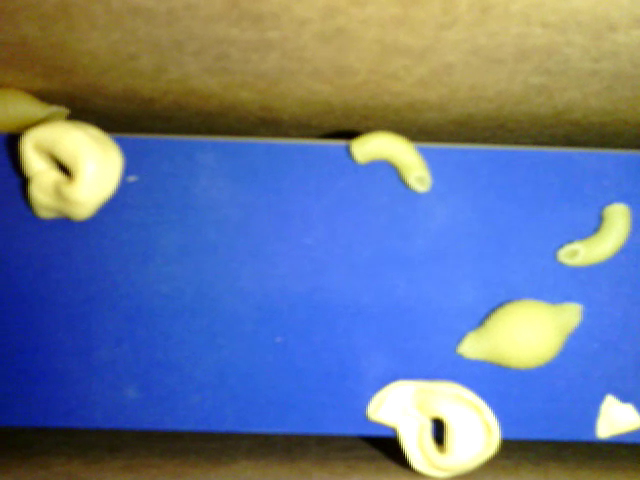elbow: (345, 122, 431, 199), (554, 196, 635, 267)
shell: (452, 295, 588, 372), (3, 85, 81, 132)
tortellini: (362, 372, 501, 475), (13, 115, 134, 224)
